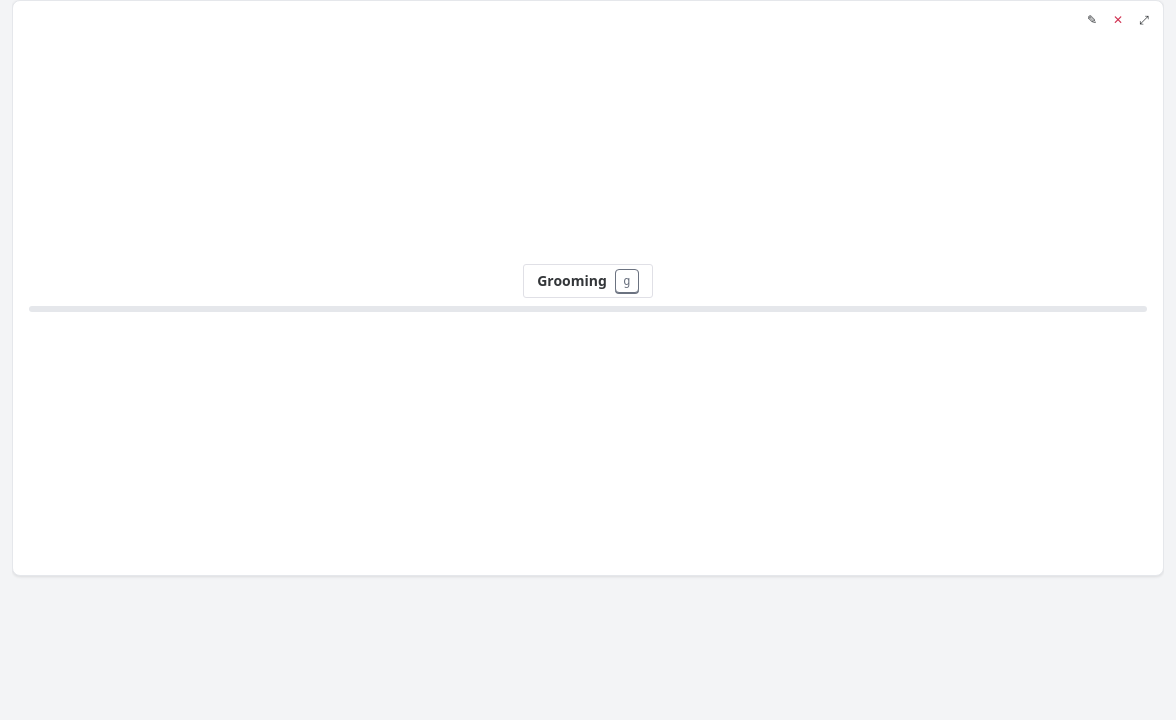
Test: SubjectCard › discards changes when the edit is cancelled
Click the button with class "subject-card__edit" at (1092, 20), box [1081,9,1103,31]
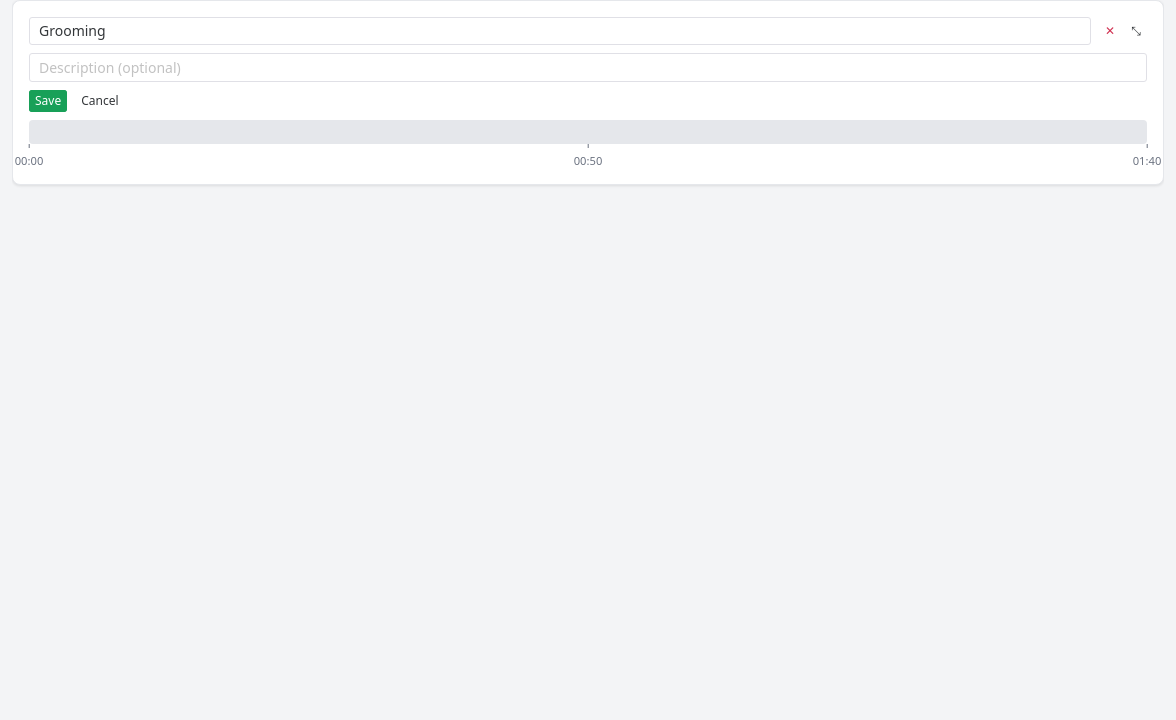
Replace the text in the field with "Renamed" at (560, 31), box [39,17,1081,45]
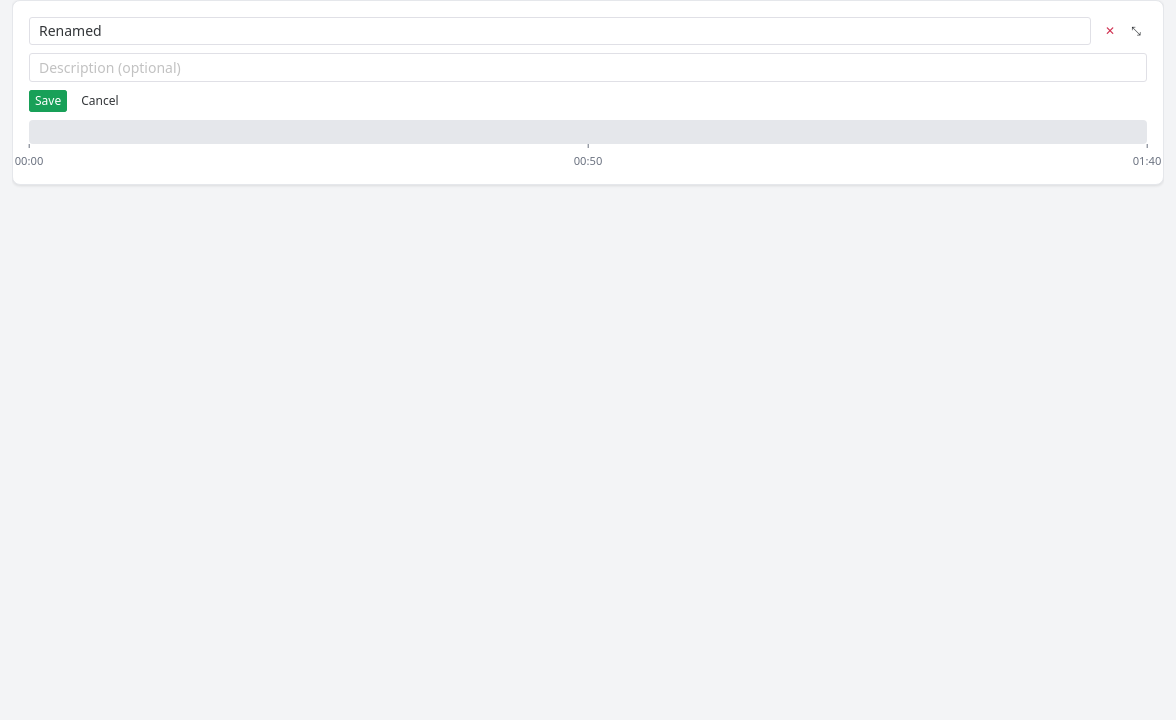
Click the button with class "subject-card__cancel" at (100, 101), box [75,90,125,112]
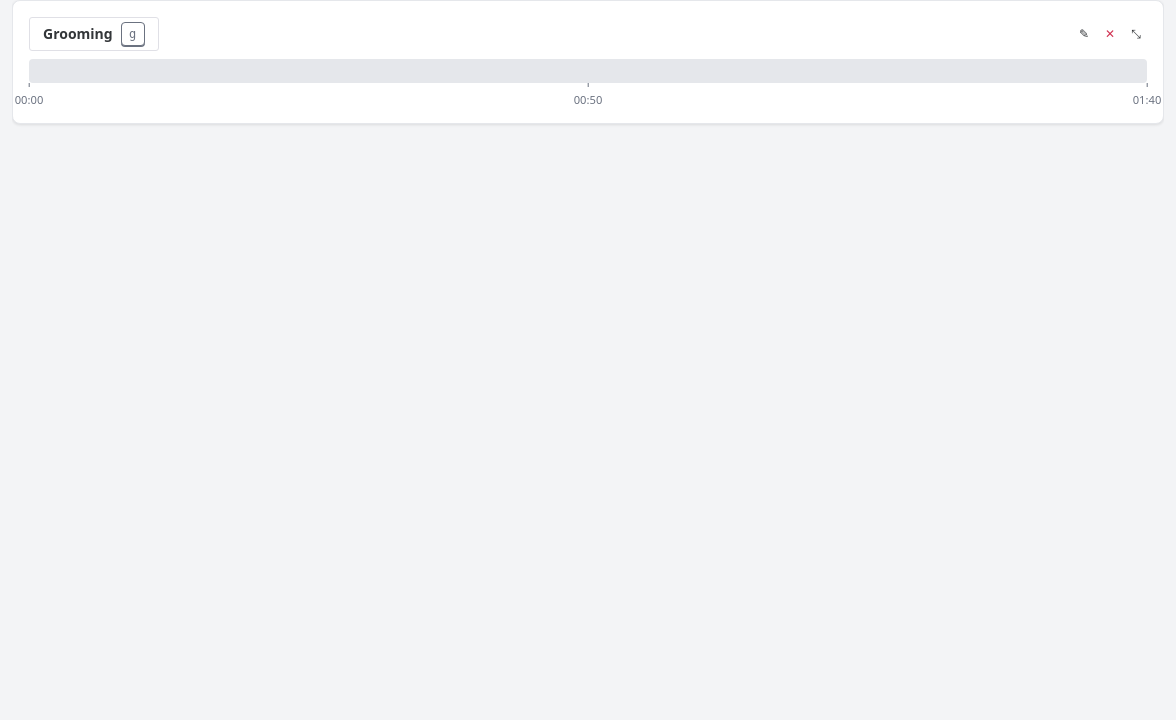
Expected: the text "Grooming" is shown, [43,27,113,41]
